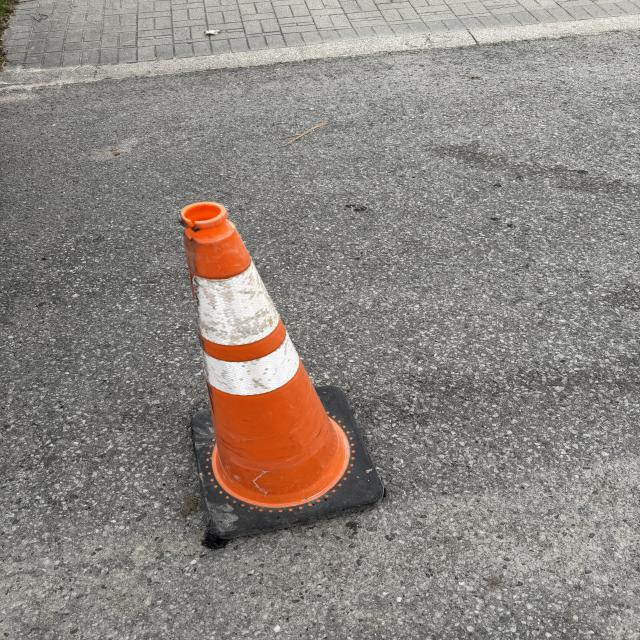Traffic Cone: (175, 201, 385, 540)
